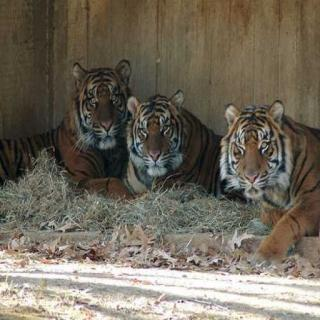Tiger: (2, 45, 133, 226), (213, 83, 320, 272), (123, 84, 220, 195)
